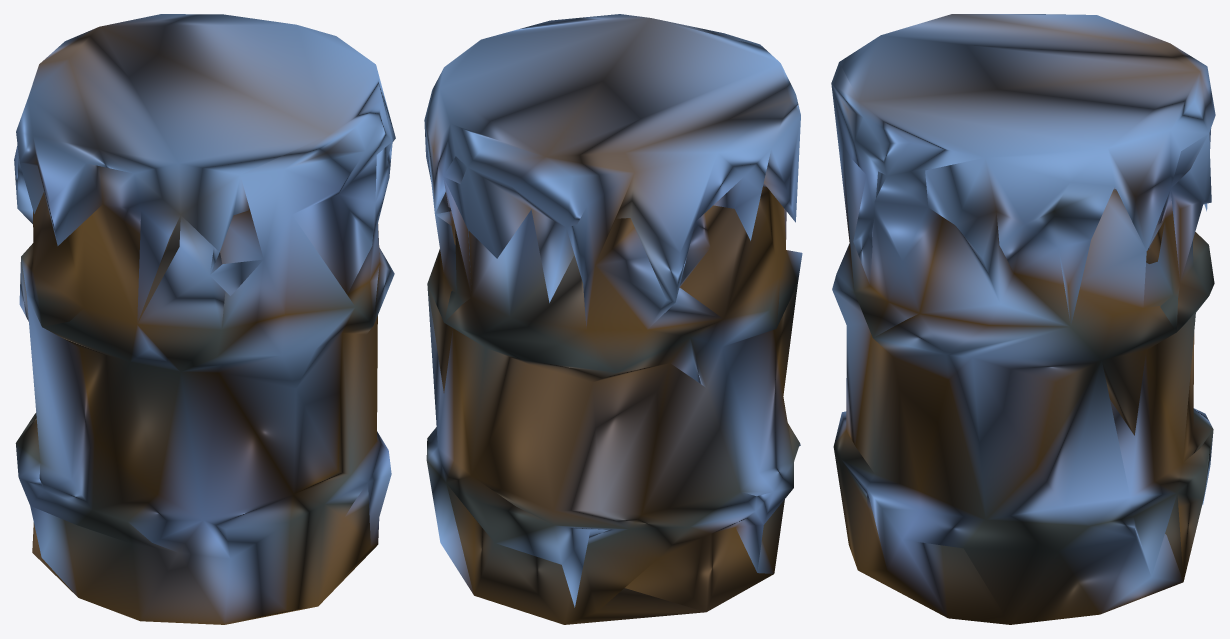
File: gen3d-frozen-barrel-lod1.glb
3 renders of one model, left to right at view 1: azimuth 30°, elevation 25°; view 2: azimuth 150°, elevation 25°; view 3: azimuth 270°, elevation 25°, orthographic.
Visible parts, largest first — view 1: part_0; view 2: part_0; view 3: part_0.
Part boxes in pixels (x1=…): part_0: x1=14, y1=14, x2=395, y2=624; part_0: x1=424, y1=14, x2=802, y2=624; part_0: x1=831, y1=14, x2=1215, y2=624.
Size of the model in its own units: 0.728 by 0.9831 by 0.7174.
